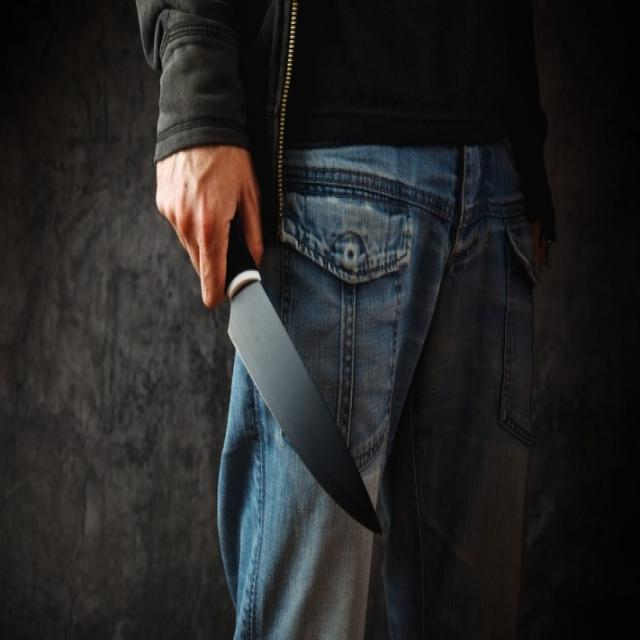knife: (220, 259, 386, 544)
